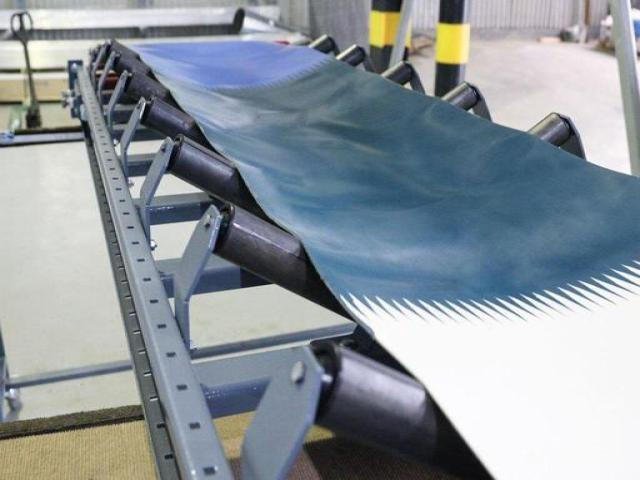conveyor: (62, 32, 638, 479)
